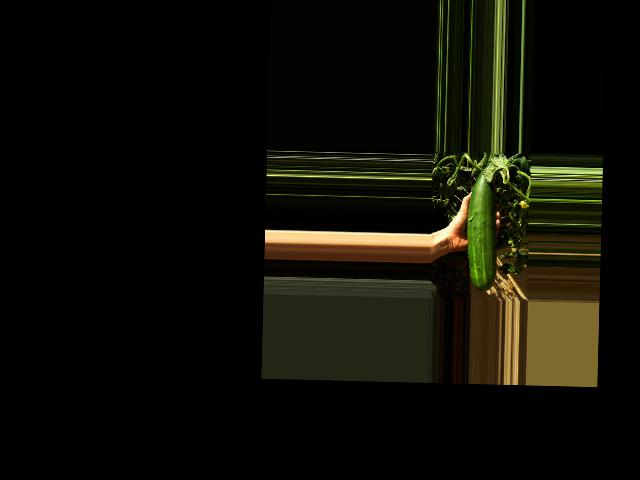cucumber: (465, 169, 499, 291)
